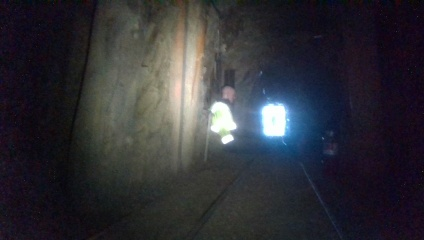fire_extinguisher: (314, 118, 342, 184)
manikin: (207, 85, 261, 159)
